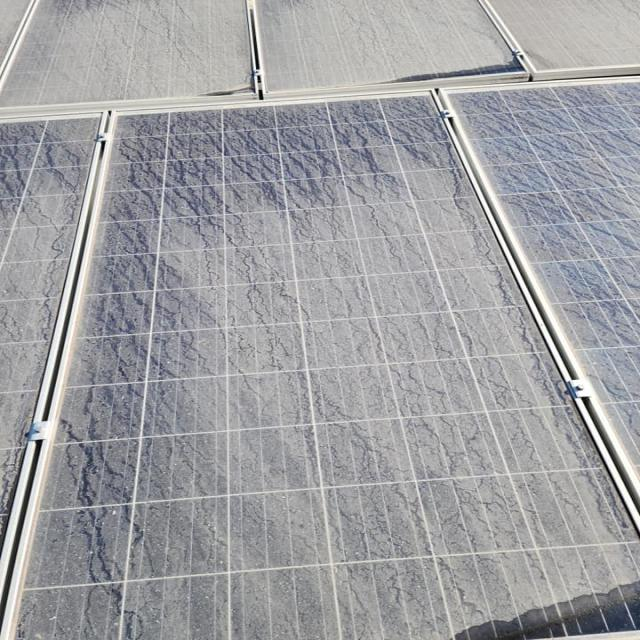faulty: (13, 93, 640, 635), (451, 85, 636, 478), (5, 0, 251, 105), (251, 0, 500, 88), (504, 0, 640, 75)
